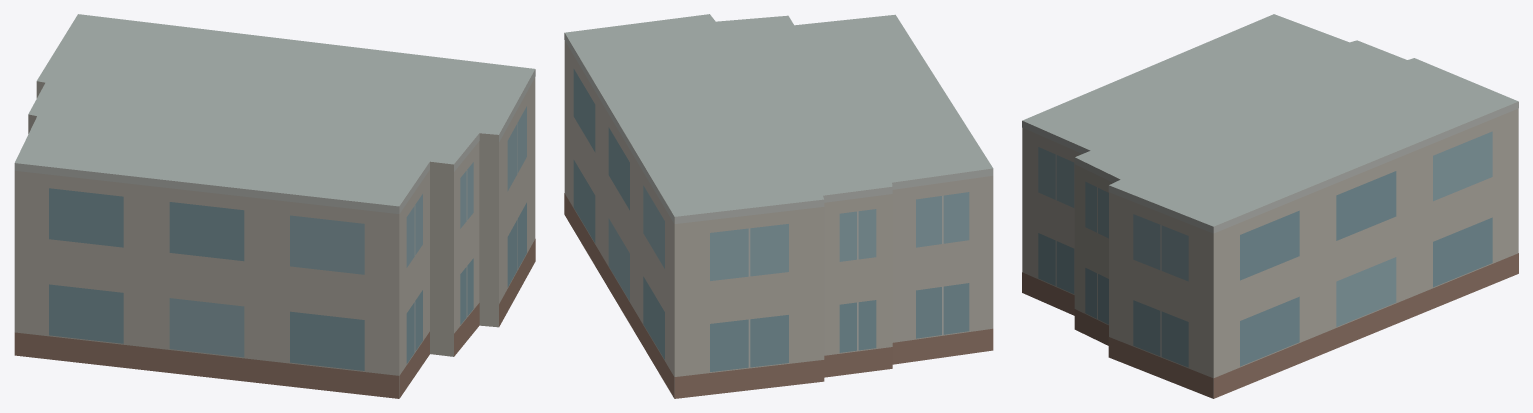
Rendered from survey-upis-32926792.glb.
3 views of the same model, side by side, from view 1: azimuth 30°, elevation 25°; view 2: azimuth 150°, elevation 25°; view 3: azimuth 270°, elevation 25° (orthographic). The views are drawn at different scales.
Visible parts, largest first — view 1: survey-upis-32926792.tmp; view 2: survey-upis-32926792.tmp; view 3: survey-upis-32926792.tmp.
Part boxes in pixels (<box>): survey-upis-32926792.tmp: <box>14,14,535,398</box>; survey-upis-32926792.tmp: <box>564,14,993,398</box>; survey-upis-32926792.tmp: <box>1022,14,1518,398</box>.
Size of the model in its own units: 16.17 by 6.1 by 15.95.
